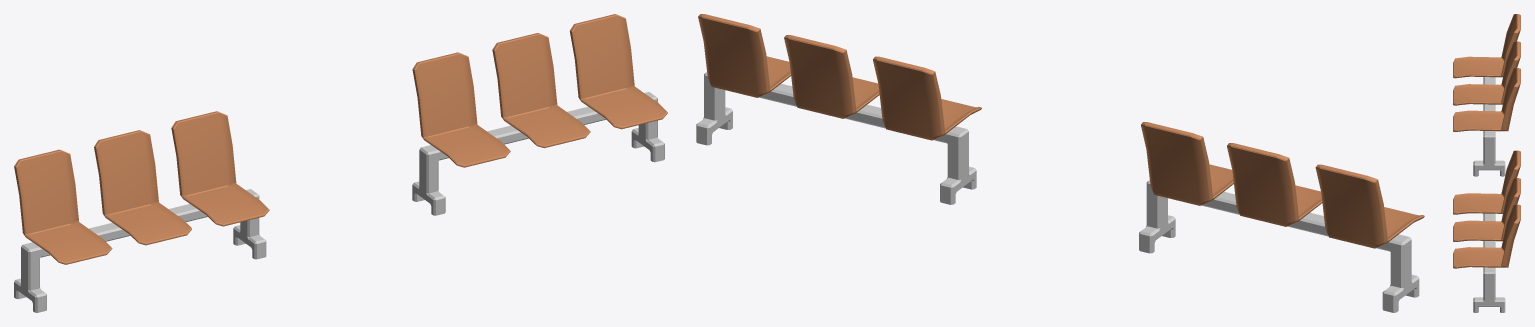
File: p1Banca1.fbx
The picture shows the model from 3 angles, left to right: view 1: azimuth 30°, elevation 25°; view 2: azimuth 150°, elevation 25°; view 3: azimuth 270°, elevation 25°; orthographic projection. The views are drawn at different scales.
Visible parts, largest first — view 1: pCube45, pCube52, pCube49, pCube47, pCube51, pCube48, pCube46, pCube50; view 2: pCube51, pCube45, pCube47, pCube49, pCube52, pCube48, pCube50, pCube46; view 3: pCube48, pCube52, pCube45, pCube49, pCube51, pCube47, pCube50, pCube46.
Part boxes in pixels (box(x1,y1,x2,y2)): pCube45: box(412, 52, 510, 167); pCube52: box(171, 111, 269, 226); pCube49: box(94, 130, 191, 245); pCube47: box(492, 33, 590, 148); pCube51: box(14, 149, 112, 264); pCube48: box(570, 14, 667, 129); pCube46: box(412, 92, 664, 215); pCube50: box(14, 189, 266, 312); pCube51: box(1315, 164, 1424, 248); pCube45: box(873, 56, 981, 140); pCube47: box(784, 35, 879, 118); pCube49: box(1227, 143, 1322, 226); pCube52: box(1141, 122, 1233, 205); pCube48: box(698, 14, 790, 97); pCube50: box(1139, 180, 1419, 312); pCube46: box(696, 72, 976, 204); pCube48: box(1453, 204, 1520, 268); pCube52: box(1453, 68, 1520, 131); pCube45: box(1453, 150, 1520, 214); pCube49: box(1453, 41, 1520, 105); pCube51: box(1453, 14, 1520, 78); pCube47: box(1453, 178, 1520, 241); pCube50: box(1473, 77, 1505, 176); pCube46: box(1473, 213, 1505, 312).
Size of the model in its own units: 25.9 by 4.96 by 3.44.
